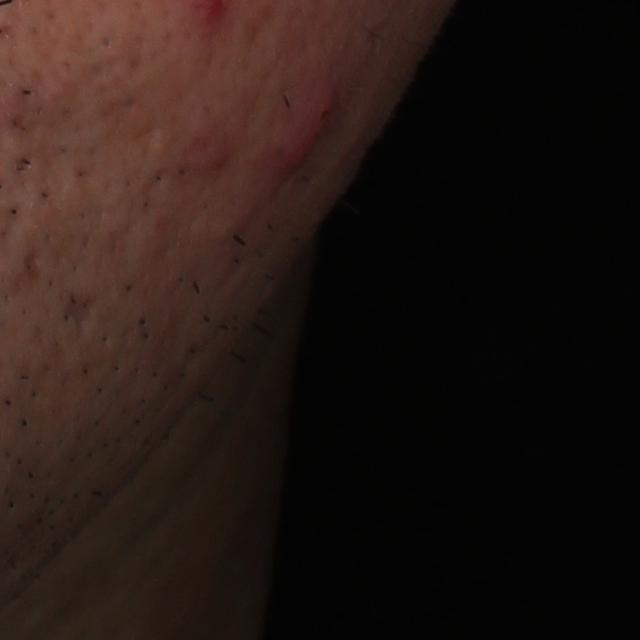atrophic_scar: (63, 285, 94, 341)
papule: (272, 74, 345, 192), (181, 138, 245, 180)
